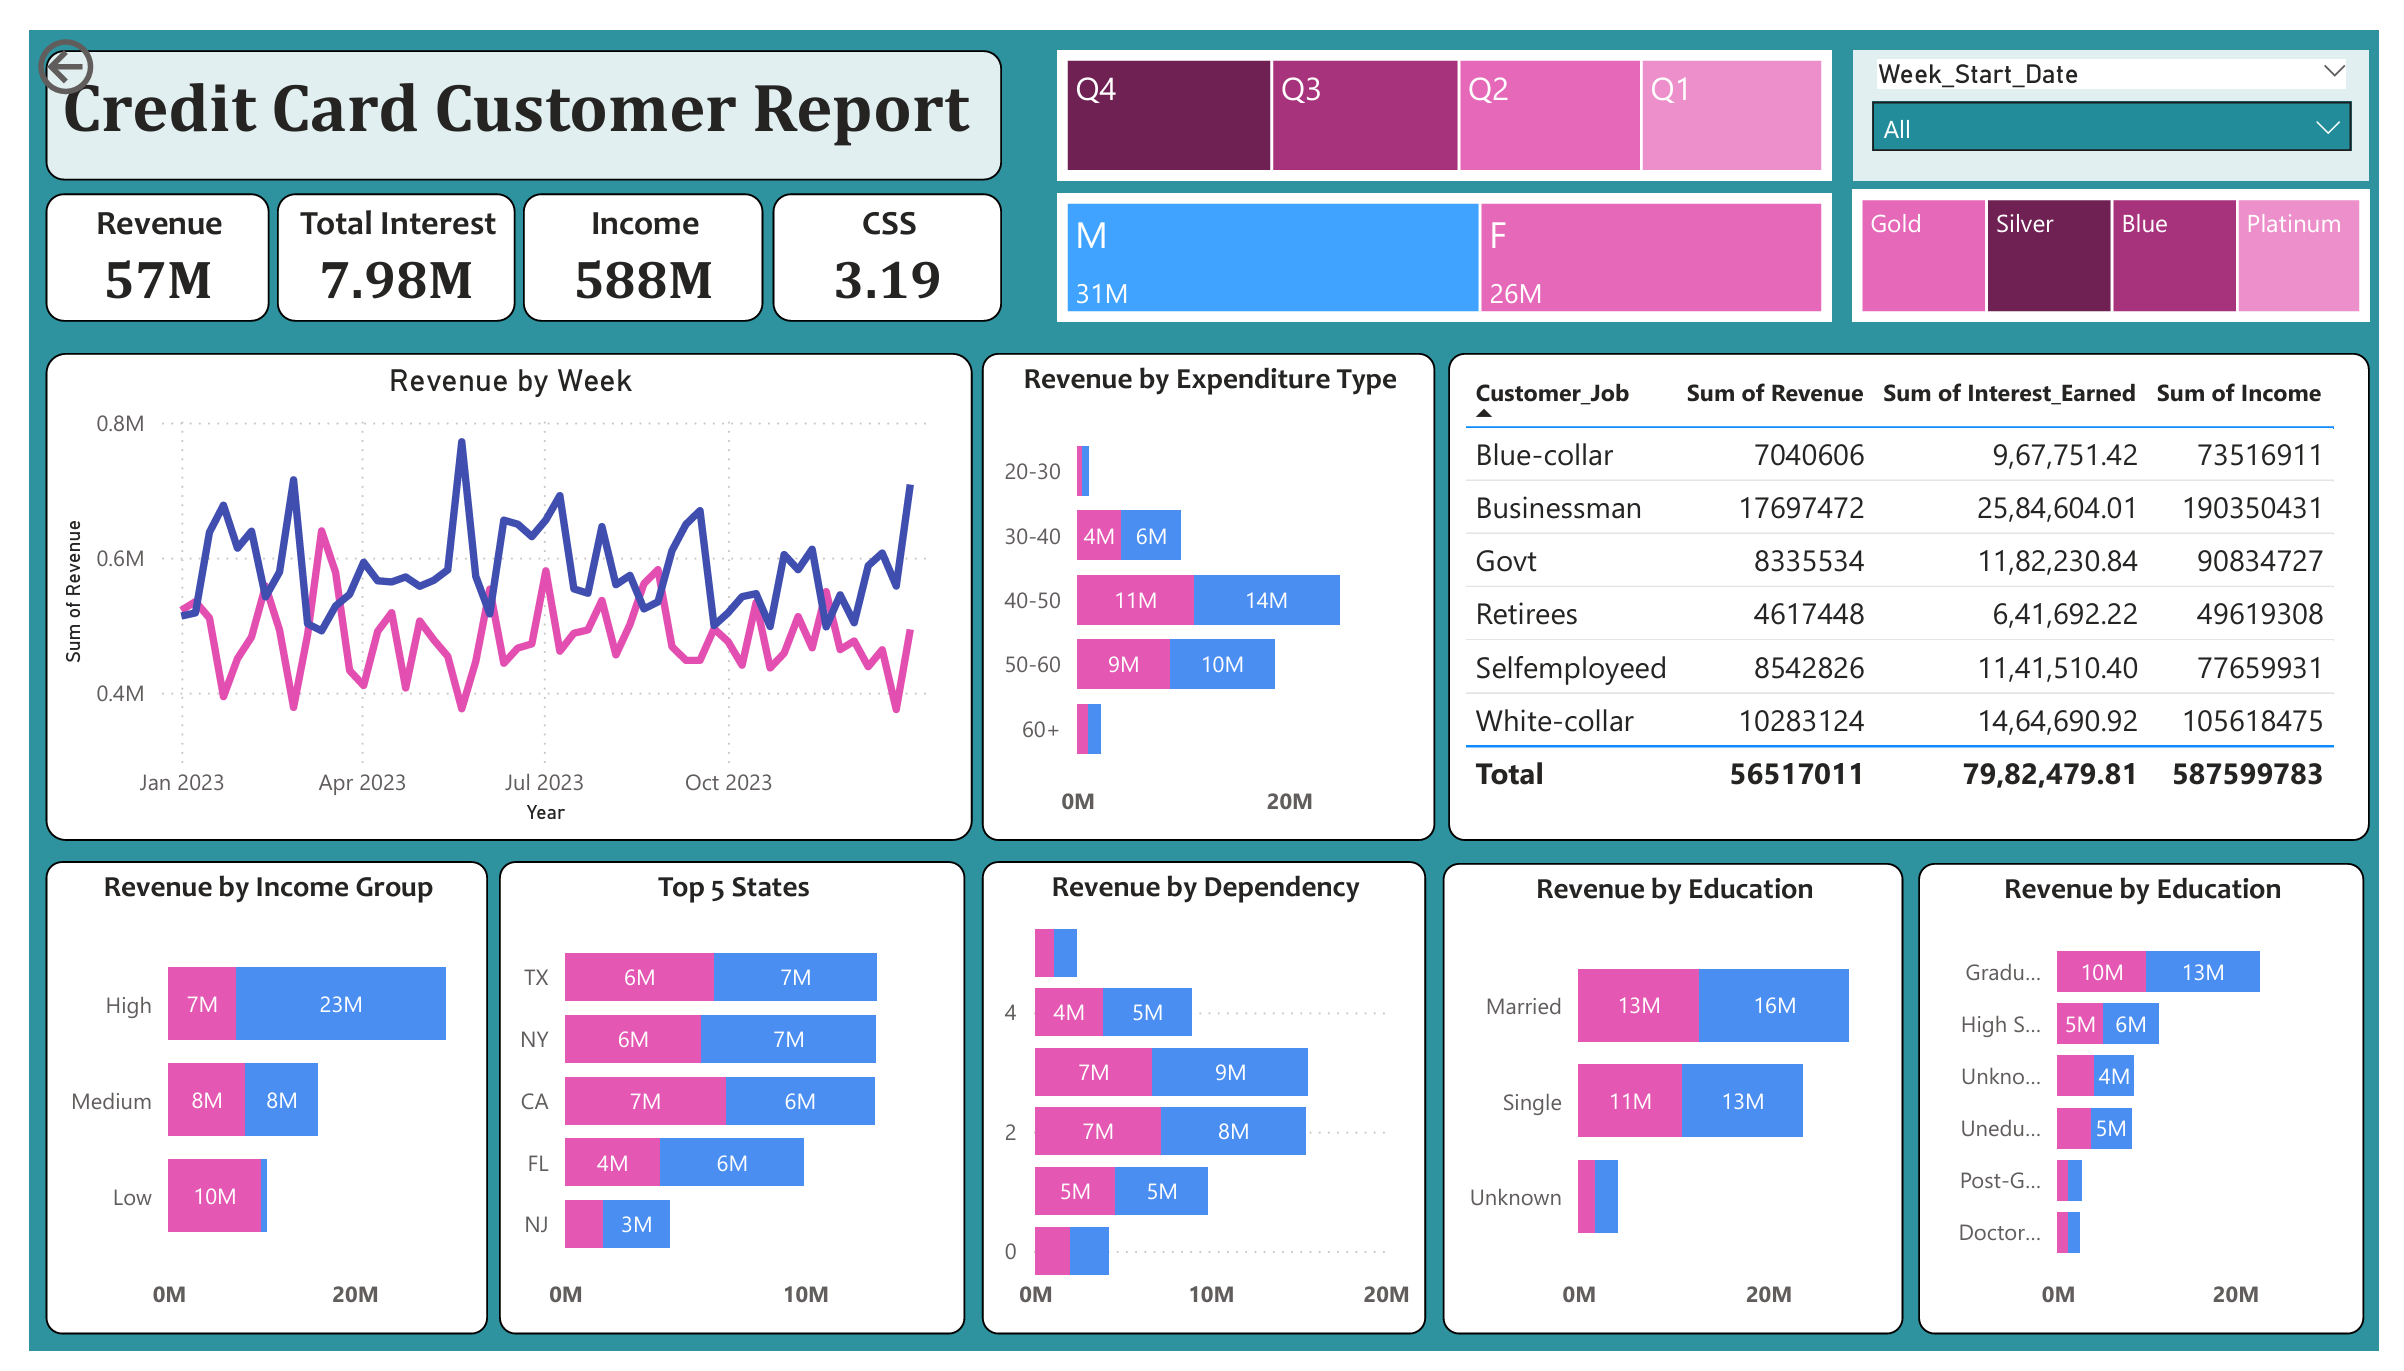

The page's visual inventory and layout, read from the dashboard file:
{"tool":"powerbi","page":{"name":"CC Customer","canvas":[1280,720],"ordinal":2},"visuals":[{"type":"textbox","box":[8.9,11.5,521.4,70.1],"z":0},{"type":"tableEx","fields":{"Values":["ccdb cust_detail.Customer_Job","Sum(ccdb cc_detail.Revenue)","Sum(ccdb cc_detail.Interest_Earned)","Sum(ccdb cust_detail.Income)"]},"box":[772.6,175.9,502.3,266.5],"z":1000},{"type":"card","title":"Revenue","fields":{"Values":["Sum(ccdb cc_detail.Revenue)"]},"box":[8.9,89.2,122.4,70.1],"z":2000},{"type":"card","title":"Total Interest","fields":{"Values":["Sum(ccdb cc_detail.Interest_Earned)"]},"box":[135.1,89.2,130,70.1],"z":3000},{"type":"card","title":"Income","fields":{"Values":["Sum(ccdb cust_detail.Income)"]},"box":[269,89.2,131.3,70.1],"z":4000},{"type":"card","title":"CSS","fields":{"Values":["Avg(ccdb cust_detail.Cust_Satisfaction_Score)"]},"box":[405.4,89.2,124.9,70.1],"z":5000},{"type":"actionButton","box":[0,0,100,40],"z":6000},{"type":"slicer","fields":{"Values":["ccdb cc_detail.Week_Start_Date"]},"box":[994.4,11.5,280.5,70.1],"z":7000},{"type":"treemap","fields":{"Group":["ccdb cc_detail.Qtr"],"Values":["Avg(ccdb cc_detail.Client_Num)"]},"box":[559.7,11.5,422,70.1],"z":8000},{"type":"treemap","fields":{"Group":["ccdb cc_detail.Card_Category"],"Values":["Avg(ccdb cc_detail.Client_Num)"]},"box":[993.1,86.7,281.8,72.7],"z":9000},{"type":"lineChart","title":"Revenue by Week","fields":{"Y":["Sum(ccdb cc_detail.Revenue)"],"Series":["ccdb cust_detail.Gender"],"Category":["ccdb cc_detail.Week_Start_Date.Variation.Date Hierarchy.Year","ccdb cc_detail.Week_Start_Date.Variation.Date Hierarchy.Month","ccdb cc_detail.Week_Start_Date.Variation.Date Hierarchy.Day"]},"box":[8.9,175.9,504.9,266.5],"z":10000},{"type":"treemap","fields":{"Group":["ccdb cust_detail.Gender"],"Values":["Sum(ccdb cc_detail.Revenue)"]},"box":[559.7,89.2,422,70.1],"z":11000},{"type":"barChart","title":"Revenue by Income Group","fields":{"Category":["ccdb cust_detail.IncomeGroup"],"Y":["Sum(ccdb cc_detail.Revenue)"],"Series":["ccdb cust_detail.Gender"]},"box":[8.9,452.6,241,258.8],"z":12000},{"type":"barChart","title":"Revenue by Expenditure Type","fields":{"Category":["ccdb cust_detail.AgeGroup"],"Y":["Sum(ccdb cc_detail.Revenue)"],"Series":["ccdb cust_detail.Gender"]},"box":[518.9,175.9,247.3,266.5],"z":13000},{"type":"barChart","title":"Revenue by Dependency","fields":{"Category":["ccdb cust_detail.Dependent_Count"],"Y":["Sum(ccdb cc_detail.Revenue)"],"Series":["ccdb cust_detail.Gender"]},"box":[518.9,452.6,242.2,258.8],"z":14000},{"type":"barChart","title":"Revenue by Education","fields":{"Category":["ccdb cust_detail.Education_Level"],"Y":["Sum(ccdb cc_detail.Revenue)"],"Series":["ccdb cust_detail.Gender"]},"box":[1028.8,453.9,243.5,257.5],"z":15000},{"type":"barChart","title":"Top 5 States","fields":{"Category":["ccdb cust_detail.State_cd"],"Y":["Sum(ccdb cc_detail.Revenue)"],"Series":["ccdb cust_detail.Gender"]},"box":[256.3,452.6,253.7,258.8],"z":16000},{"type":"barChart","title":"Revenue by Education","fields":{"Y":["Sum(ccdb cc_detail.Revenue)"],"Series":["ccdb cust_detail.Gender"],"Category":["ccdb cust_detail.Marital_Status"]},"box":[770,453.9,251.2,257.5],"z":17000}]}

Visuals, with their boxes in screenshot pixels (x1, y1, x2, y2), scaled from the page's 1280x720 canvas onto the 2404x1371 screenshot:
textbox: [x1=17, y1=22, x2=996, y2=155]
tableEx - ccdb cust_detail.Customer_Job x Sum(ccdb cc_detail.Revenue): [x1=1451, y1=335, x2=2394, y2=842]
"Revenue" card: [x1=17, y1=170, x2=247, y2=303]
"Total Interest" card: [x1=254, y1=170, x2=498, y2=303]
"Income" card: [x1=505, y1=170, x2=752, y2=303]
"CSS" card: [x1=761, y1=170, x2=996, y2=303]
actionButton: [x1=0, y1=0, x2=188, y2=76]
slicer - ccdb cc_detail.Week_Start_Date: [x1=1868, y1=22, x2=2394, y2=155]
treemap - ccdb cc_detail.Qtr x Avg(ccdb cc_detail.Client_Num): [x1=1051, y1=22, x2=1844, y2=155]
treemap - ccdb cc_detail.Card_Category x Avg(ccdb cc_detail.Client_Num): [x1=1865, y1=165, x2=2394, y2=304]
"Revenue by Week" lineChart: [x1=17, y1=335, x2=965, y2=842]
treemap - ccdb cust_detail.Gender x Sum(ccdb cc_detail.Revenue): [x1=1051, y1=170, x2=1844, y2=303]
"Revenue by Income Group" barChart: [x1=17, y1=862, x2=469, y2=1355]
"Revenue by Expenditure Type" barChart: [x1=975, y1=335, x2=1439, y2=842]
"Revenue by Dependency" barChart: [x1=975, y1=862, x2=1429, y2=1355]
"Revenue by Education" barChart: [x1=1932, y1=864, x2=2390, y2=1355]
"Top 5 States" barChart: [x1=481, y1=862, x2=958, y2=1355]
"Revenue by Education" barChart: [x1=1446, y1=864, x2=1918, y2=1355]
